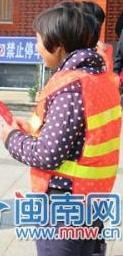boots: (0, 197, 16, 215), (0, 219, 19, 231)
vest: (13, 74, 119, 194)
